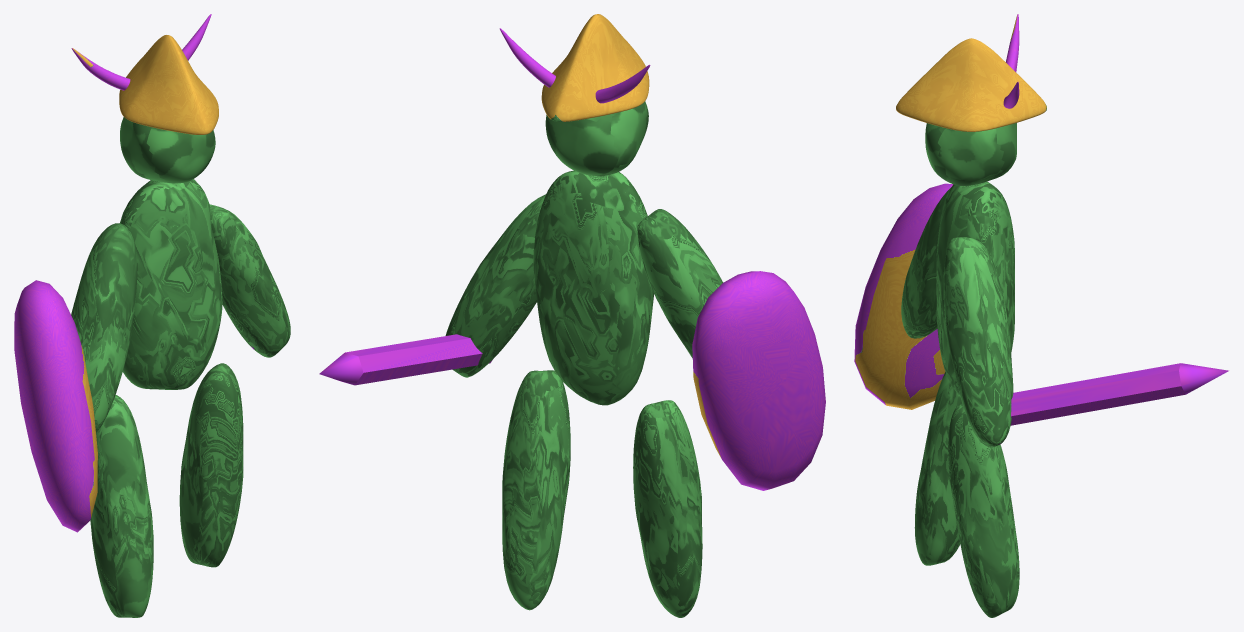
The model's file is Scale_02.obj.
3 renders of one model, left to right at view 1: azimuth 30°, elevation 25°; view 2: azimuth 150°, elevation 25°; view 3: azimuth 270°, elevation 25°, orthographic. The views are drawn at different scales.
Parts seen in each view (by area): view 1: polySurface12; view 2: polySurface12; view 3: polySurface12.
Boxes of the visible parts, box(x1,y1,x2,y2) form: polySurface12: box(14, 14, 290, 617); polySurface12: box(319, 14, 825, 617); polySurface12: box(854, 14, 1228, 617).
Bounding box in the file's own units: 21.89 × 38.12 × 23.38.
Materials: 1 (1 with a texture image).
